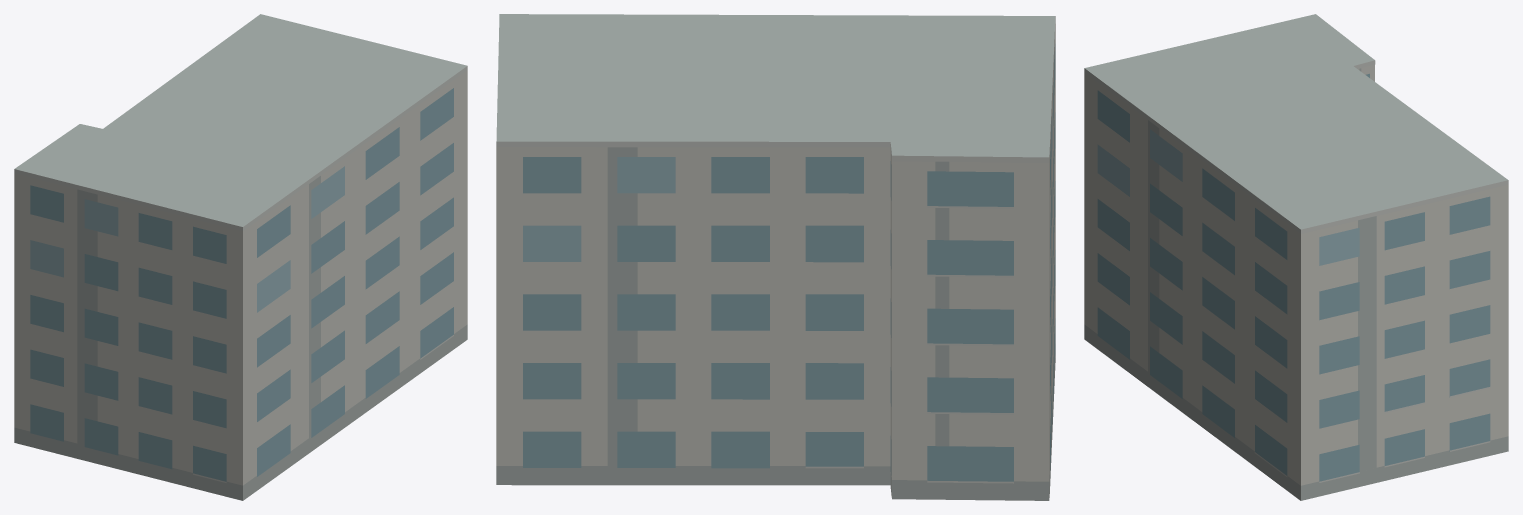
The model's file is survey-upis-32607883.glb.
3 views of the same model, side by side, from view 1: azimuth 30°, elevation 25°; view 2: azimuth 150°, elevation 25°; view 3: azimuth 270°, elevation 25° (orthographic). The views are drawn at different scales.
Parts seen in each view (by area): view 1: survey-upis-32607883.tmp; view 2: survey-upis-32607883.tmp; view 3: survey-upis-32607883.tmp.
Part boxes in pixels (x1,y1,x2,y2): survey-upis-32607883.tmp: (14,14,467,500); survey-upis-32607883.tmp: (496,14,1055,500); survey-upis-32607883.tmp: (1084,14,1508,500).
Bounding box in the file's own units: 26 × 15.25 × 21.61.
